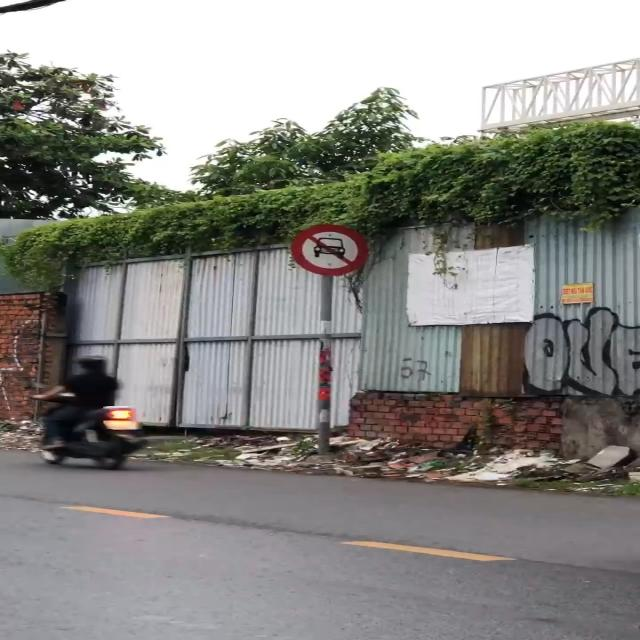Bien bao cam xe oto: (288, 226, 375, 276)
